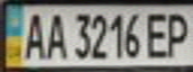1: (109, 10, 127, 60)
2: (90, 9, 109, 60)
3: (69, 9, 93, 61)
6: (124, 9, 145, 60)
A: (18, 9, 48, 61), (42, 9, 69, 61)
E: (142, 9, 172, 60)
P: (163, 8, 193, 59)
